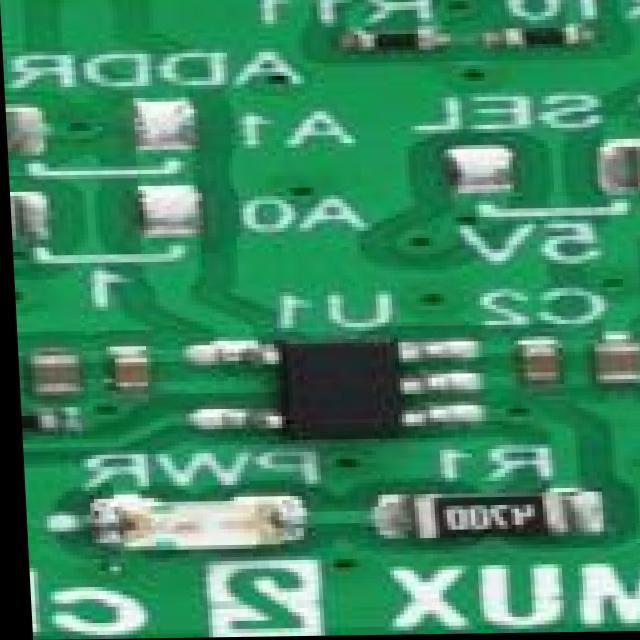IC: (208, 339, 442, 438)
LED: (96, 493, 283, 555)
capacitor: (580, 341, 640, 387), (21, 355, 84, 394), (102, 346, 152, 395), (516, 342, 556, 386)
resistor: (408, 490, 562, 543), (341, 31, 446, 54), (484, 33, 575, 58), (17, 411, 78, 436), (618, 145, 640, 201), (4, 108, 14, 152)
